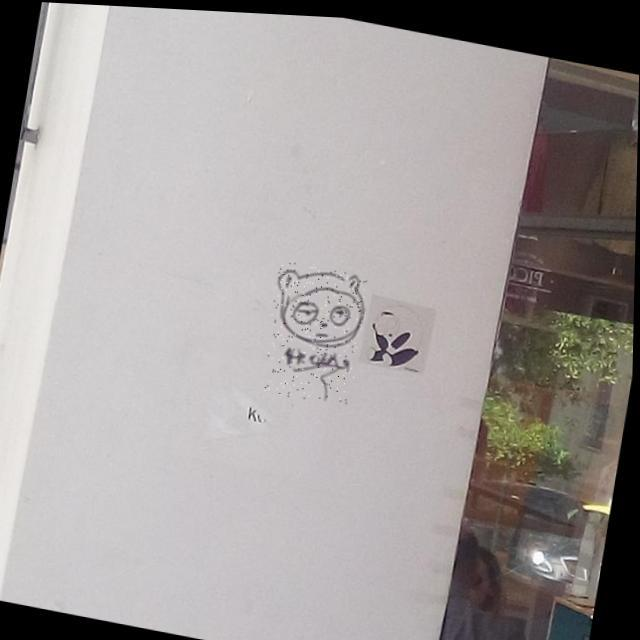-: (260, 256, 372, 404)
